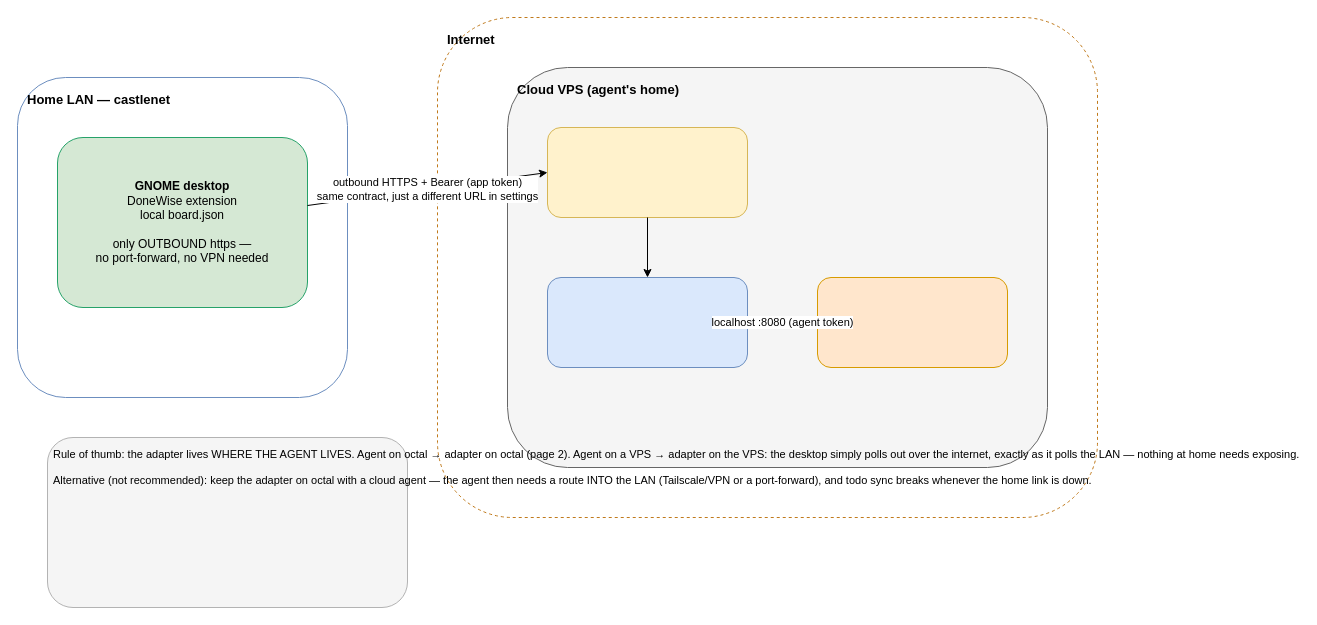
Image size: 1317x625. Some labels were removed from this diagram. Each missing label, with the centre of its shape:
AI agent hermes-agent (or any other) curls localhost: the point at 912,322
done-wise adapter localhost :8080 board.json on VPS disk: the point at 647,322
TLS reverse proxy (caddy / nginx, real cert) :443: the point at 647,172
